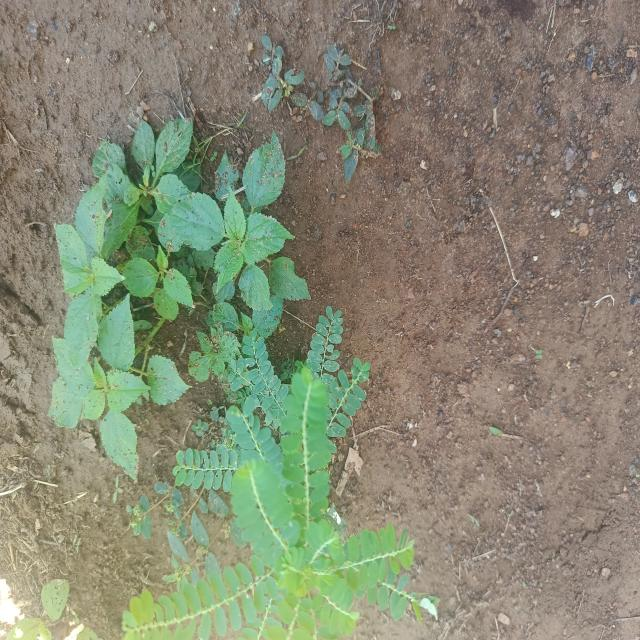weed: (43, 112, 435, 640), (259, 33, 384, 190)
